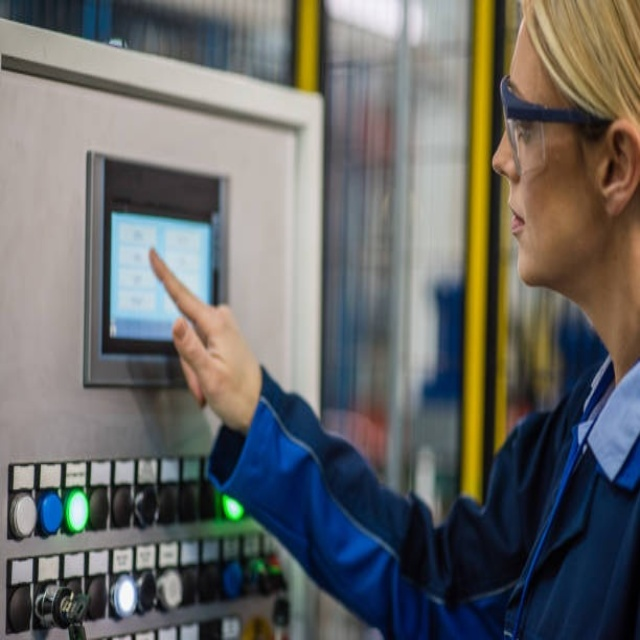Gafas: (499, 75, 613, 179)
Sin_guantes: (149, 252, 260, 434)
Sin_mascara: (502, 188, 553, 282)
